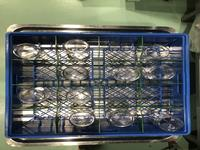Glass: (149, 111, 183, 132), (18, 87, 51, 104), (63, 39, 92, 58), (106, 108, 133, 127), (13, 43, 45, 59), (69, 108, 96, 126), (143, 65, 176, 79), (110, 67, 140, 82), (65, 87, 92, 103), (63, 66, 89, 81), (145, 45, 171, 60)
